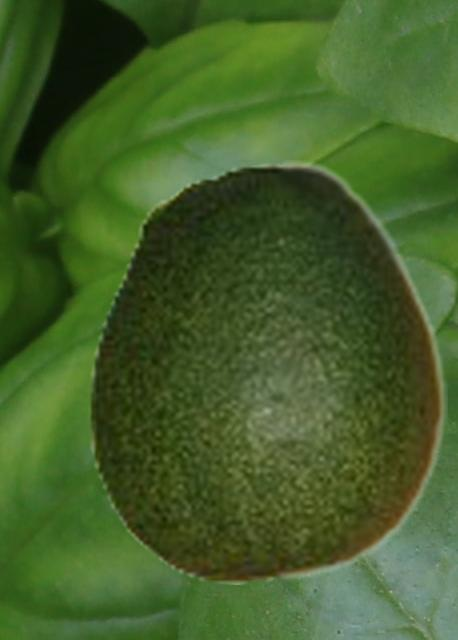avocado: (87, 160, 446, 583)
